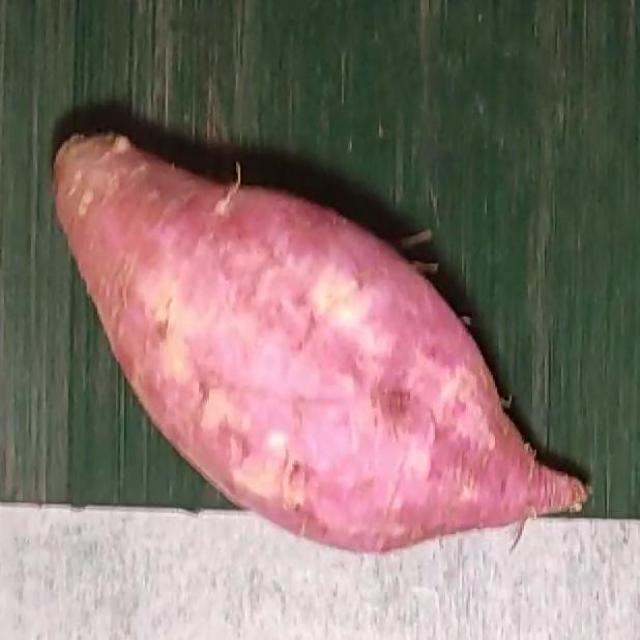Sweet Potato: (50, 129, 592, 556)
